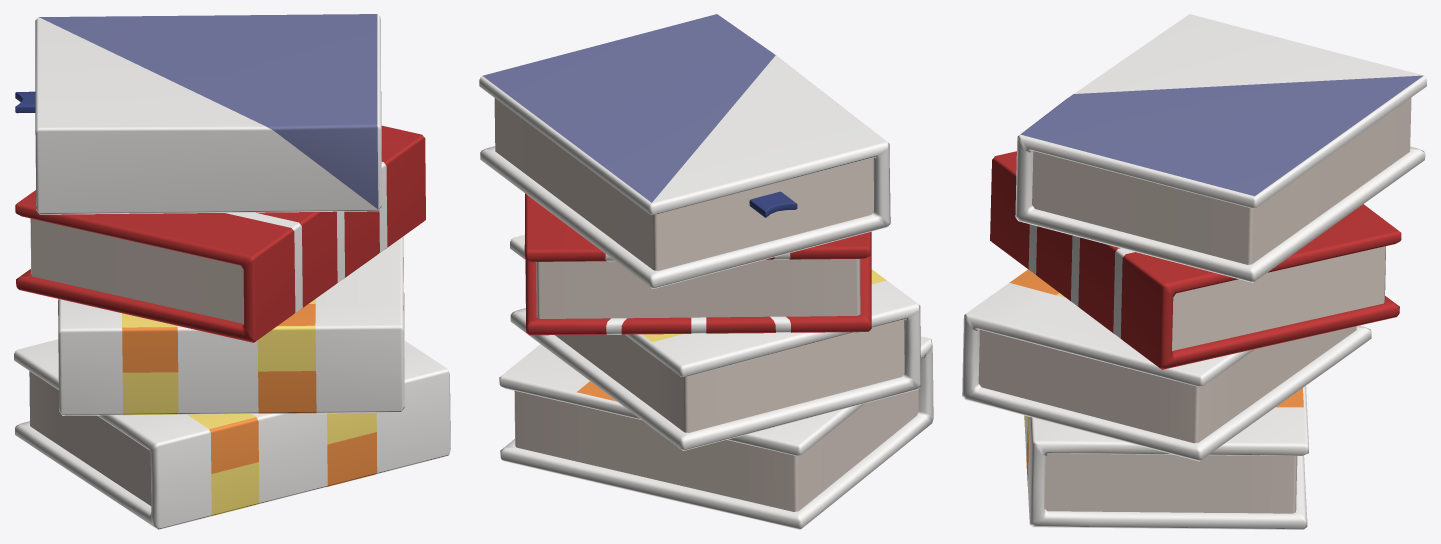
File: Book_1.glb
3 views of the same model, side by side, from view 1: azimuth 30°, elevation 25°; view 2: azimuth 150°, elevation 25°; view 3: azimuth 270°, elevation 25° (orthographic).
Visible parts, largest first — view 1: Books_6; view 2: Books_6; view 3: Books_6.
Part boxes in pixels (x1,y1,x2,y2): Books_6: [14, 14, 450, 529]; Books_6: [479, 14, 933, 529]; Books_6: [962, 14, 1426, 529].
Bounding box in the file's own units: 0.3982 × 0.3609 × 0.4219.
Materials: 1 (1 with a texture image).
